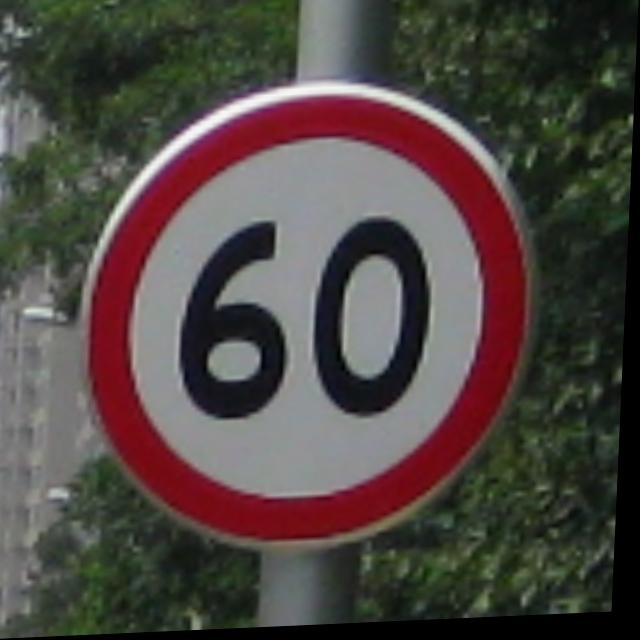limit60: (62, 69, 545, 567)
